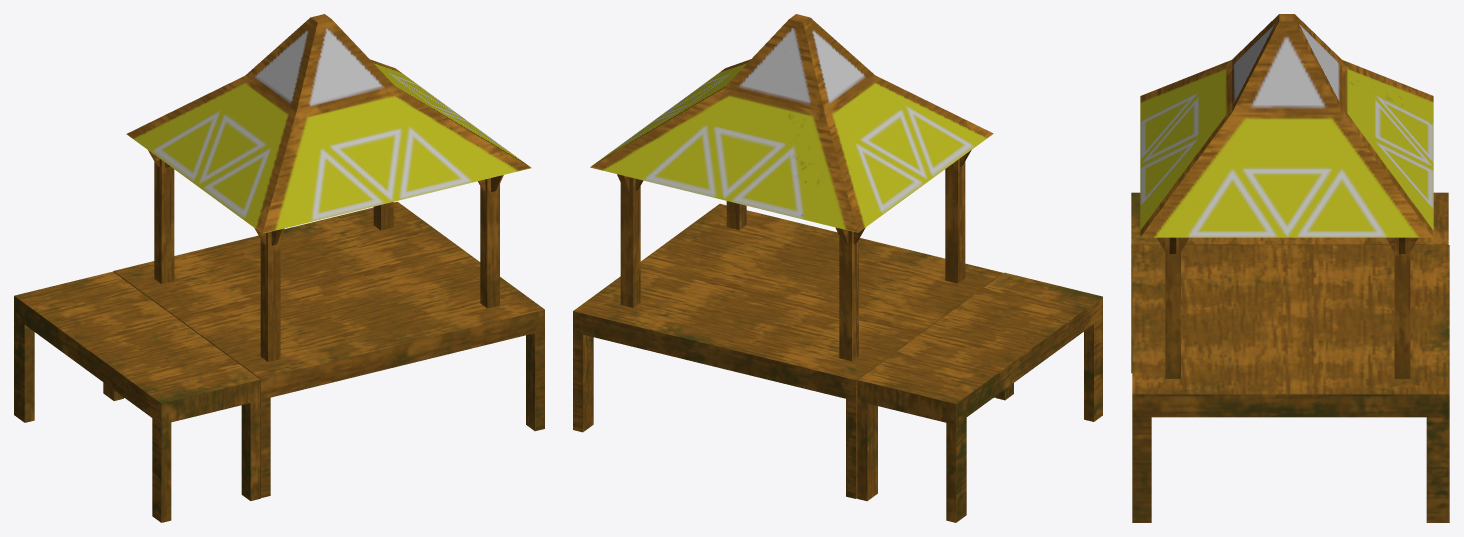
Rendered from wooden_tent.fbx.
3 views of the same model, side by side, from view 1: azimuth 30°, elevation 25°; view 2: azimuth 150°, elevation 25°; view 3: azimuth 270°, elevation 25° (orthographic). The views are drawn at different scales.
Parts seen in each view (by area): view 1: Cube.135, Cube.122, Cube.110, Cube.132, Cube.123, Cube.129; view 2: Cube.135, Cube.122, Cube.110, Cube.126, Cube.132, Cube.123; view 3: Cube.135, Cube.122, Cube.110, Cube.126, Cube.129.
Boxes of the visible parts, bbox=[...] form: Cube.135: bbox=[113, 201, 544, 497]; Cube.122: bbox=[126, 14, 531, 233]; Cube.110: bbox=[14, 271, 260, 522]; Cube.132: bbox=[260, 231, 280, 361]; Cube.123: bbox=[154, 159, 174, 283]; Cube.129: bbox=[480, 178, 499, 308]; Cube.135: bbox=[573, 203, 1002, 498]; Cube.122: bbox=[590, 14, 993, 232]; Cube.110: bbox=[857, 272, 1102, 522]; Cube.126: bbox=[620, 177, 640, 307]; Cube.132: bbox=[945, 158, 965, 283]; Cube.123: bbox=[839, 230, 858, 361]; Cube.135: bbox=[1132, 245, 1449, 522]; Cube.122: bbox=[1140, 14, 1433, 237]; Cube.110: bbox=[1131, 192, 1448, 373]; Cube.126: bbox=[1394, 237, 1410, 378]; Cube.129: bbox=[1165, 237, 1180, 378].
Bounding box in the file's own units: 3075 × 3022 × 2051.
1 material, 1 textured.
